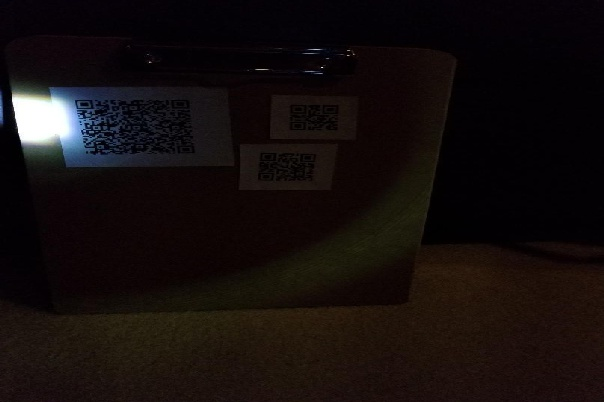code: (75, 100, 195, 154), (258, 153, 314, 181), (290, 105, 339, 131)
